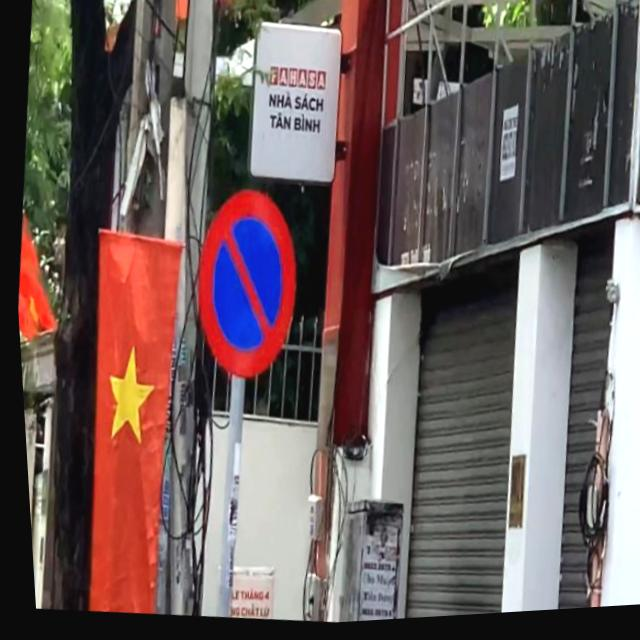Cam do xe: (177, 183, 308, 392)
